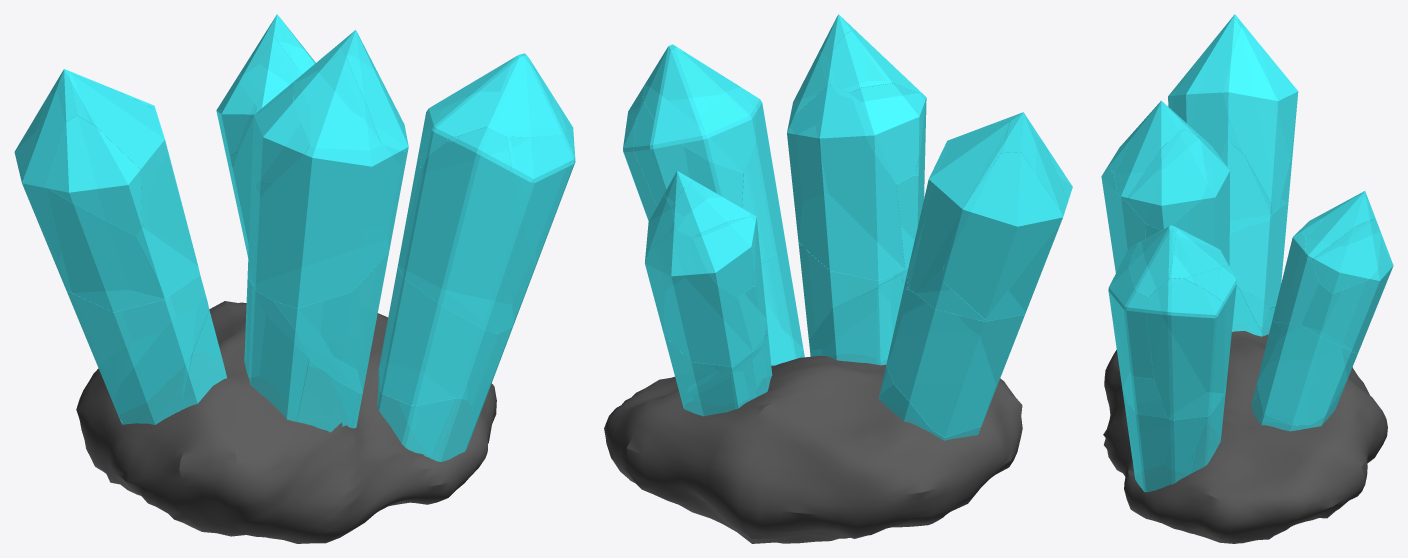
File: crystals-1-blue.glb
3 views of the same model, side by side, from view 1: azimuth 30°, elevation 25°; view 2: azimuth 150°, elevation 25°; view 3: azimuth 270°, elevation 25° (orthographic). The views are drawn at different scales.
Parts seen in each view (by area): view 1: crystal_3, crystal_1, crystal_2, rock.004, crystal_1.001; view 2: rock.004, crystal_2, crystal_1, crystal_1.001, crystal_3; view 3: rock.004, crystal_3, crystal_2, crystal_1.001, crystal_1.
Part boxes in pixels (x1,y1,x2,y2): crystal_3: (377,53,575,461); crystal_1: (244,30,408,432); crystal_2: (14,69,226,424); rock.004: (76,301,496,543); crystal_1.001: (216,14,315,257); rock.004: (604,355,1022,543); crystal_2: (878,112,1072,440); crystal_1: (787,14,926,365); crystal_1.001: (645,171,772,416); crystal_3: (623,44,804,365); rock.004: (1103,331,1387,543); crystal_3: (1108,225,1236,492); crystal_2: (1168,14,1298,336); crystal_1.001: (1251,191,1393,431); crystal_1: (1101,100,1229,272).
Bounding box in the file's own units: 7.26 × 6.87 × 4.48.
